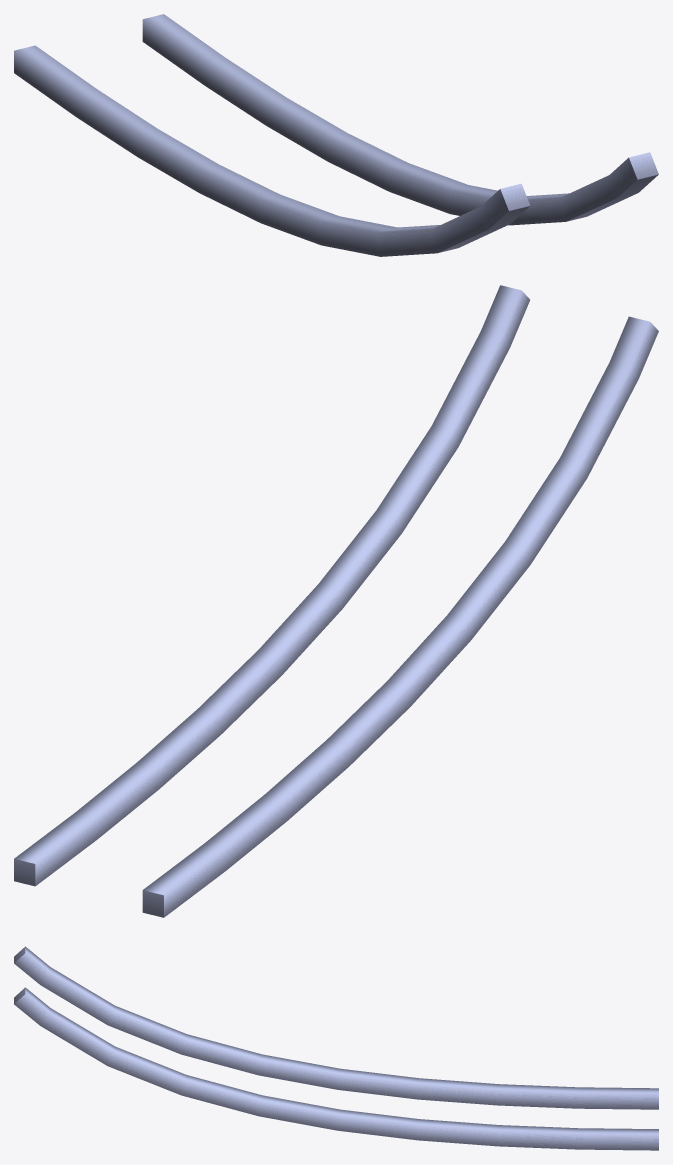
Rendered from railroad-rail-straight-hill-beginning.glb.
The picture shows the model from 3 angles, top to bottom: view 1: azimuth 30°, elevation 25°; view 2: azimuth 150°, elevation 25°; view 3: azimuth 270°, elevation 25°; orthographic projection. The views are drawn at different scales.
Visible parts, largest first — view 1: railroad-rail-straight-hill-beginning; view 2: railroad-rail-straight-hill-beginning; view 3: railroad-rail-straight-hill-beginning.
Boxes of the visible parts, x1,y1,x2,y2 form: railroad-rail-straight-hill-beginning: (14,14,658,256); railroad-rail-straight-hill-beginning: (14,285,658,917); railroad-rail-straight-hill-beginning: (14,946,658,1150).
Bounding box in the file's own units: 0.6997 × 1.07 × 4.
Materials: 1 (1 with a texture image).
